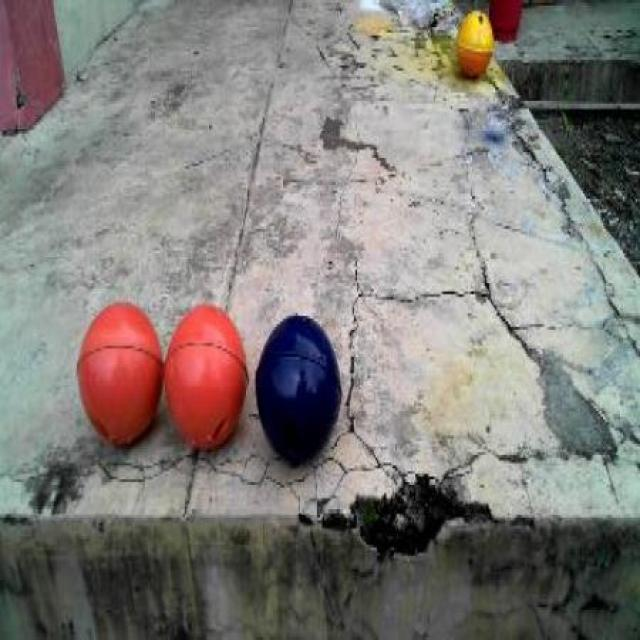buoy: (246, 294, 348, 477), (70, 283, 170, 455), (158, 283, 254, 462), (444, 0, 501, 87)
